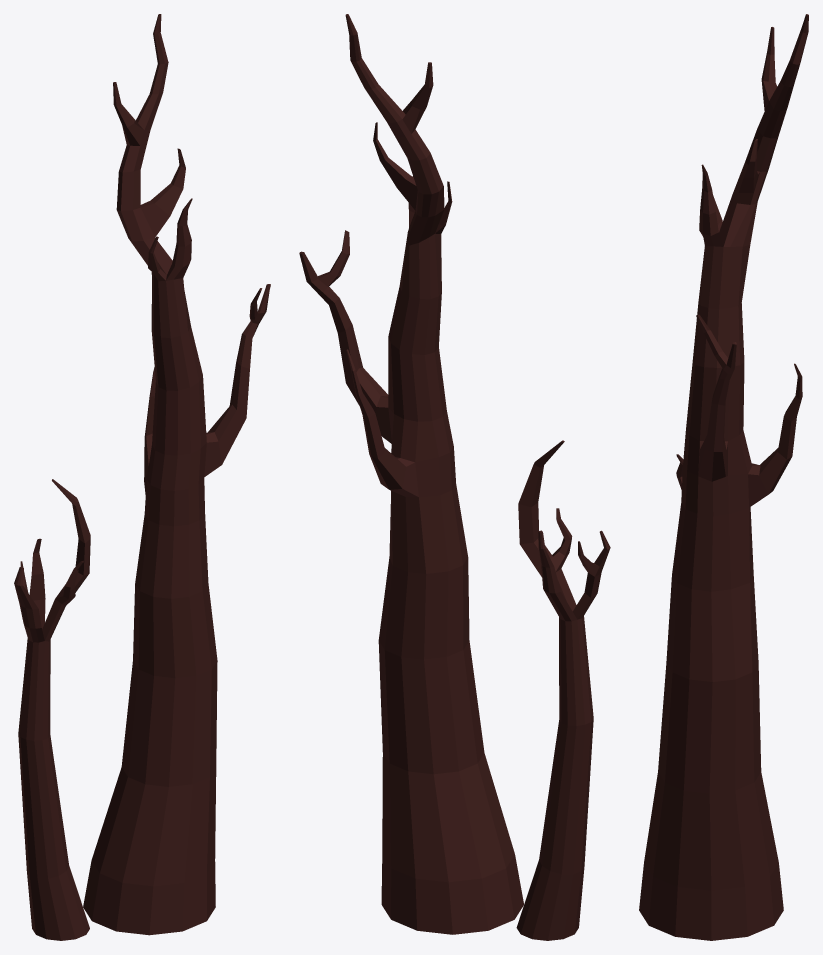
Rendered from Tree7b.fbx.
3 views of the same model, side by side, from view 1: azimuth 30°, elevation 25°; view 2: azimuth 150°, elevation 25°; view 3: azimuth 270°, elevation 25° (orthographic). The views are drawn at different scales.
Parts seen in each view (by area): view 1: Tree7.001; view 2: Tree7.001; view 3: Tree7.001.
Part boxes in pixels (x1=…): Tree7.001: x1=14, y1=14, x2=270, y2=940; Tree7.001: x1=299, y1=14, x2=610, y2=940; Tree7.001: x1=639, y1=14, x2=808, y2=940.
Bounding box in the file's own units: 328 × 978 × 163.
